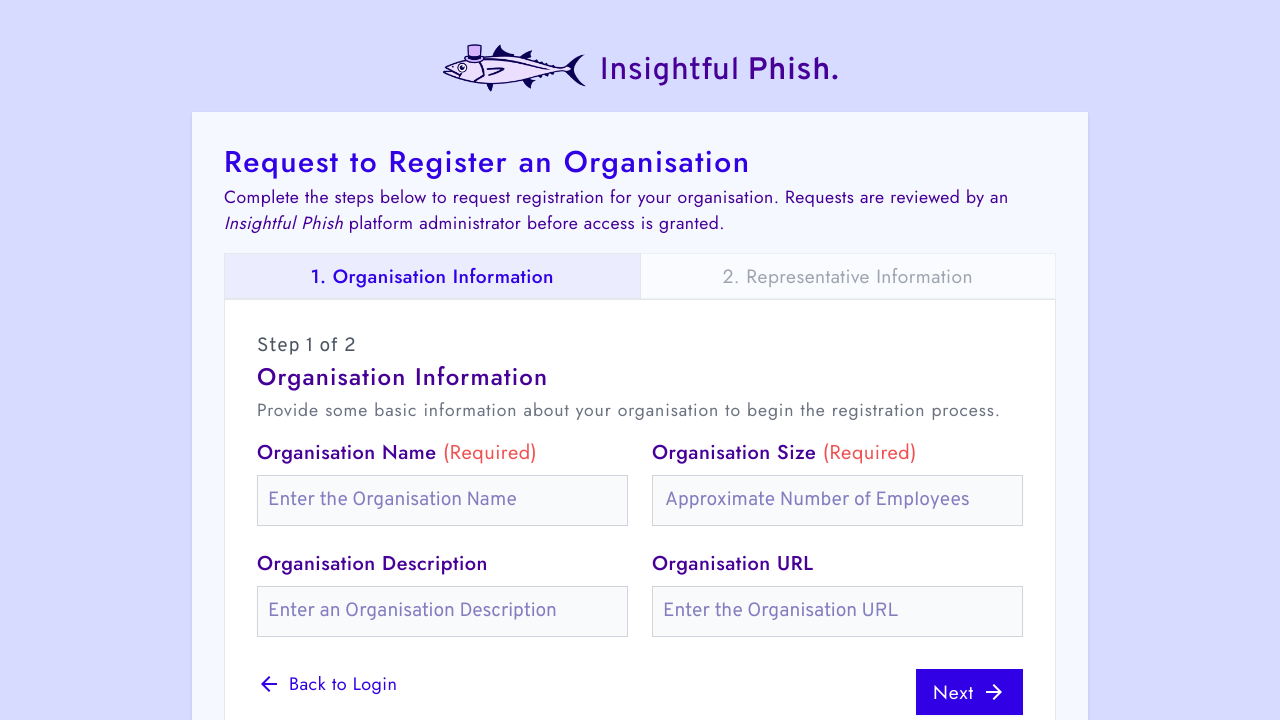
Test: OrganisationRegistrationRequestPage › shows a validation message when progressing with an empty organisation form
Click the button "Next": (970, 692) [916, 668, 1023, 714]
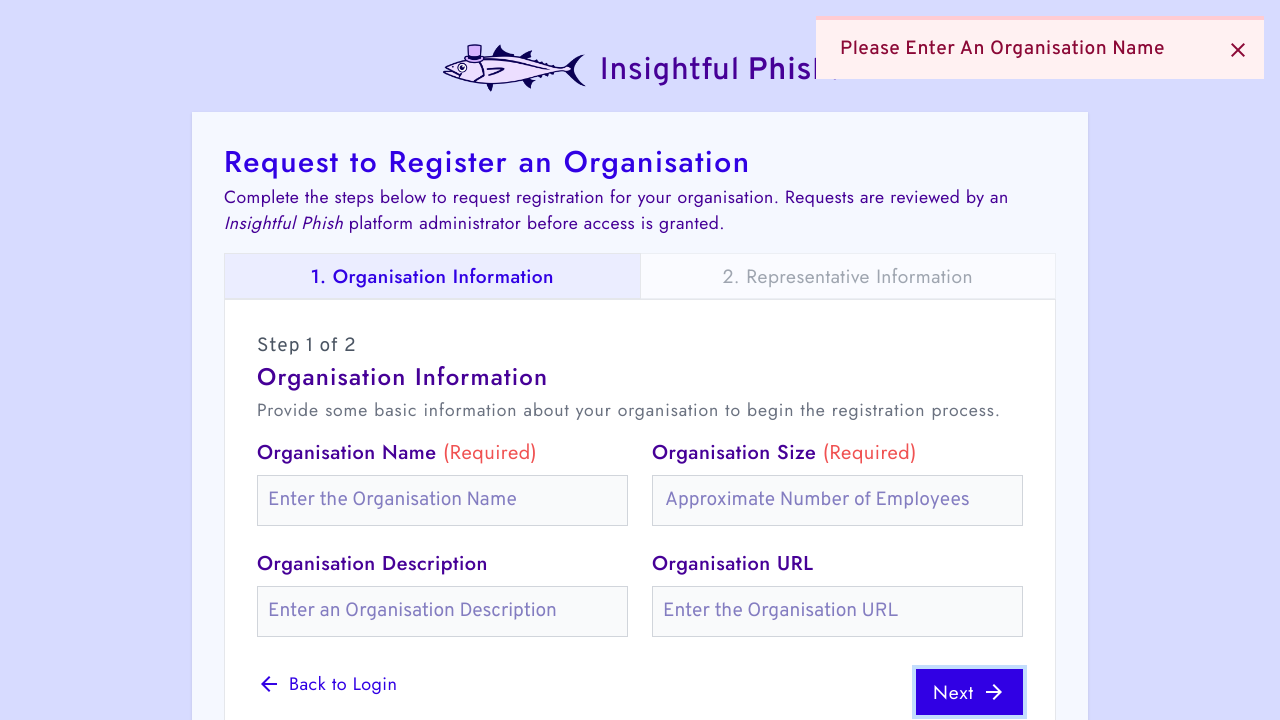
Expected: the text "Please Enter An Organisation Name" is shown, [840, 36, 1165, 63]
